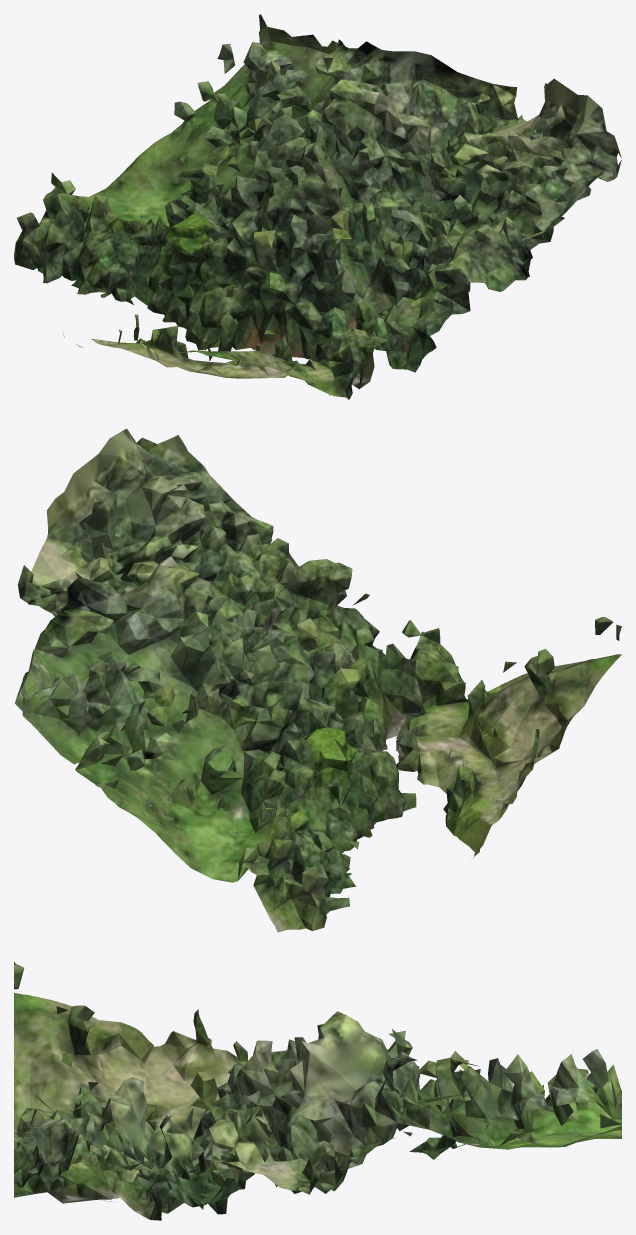
3 views of the same model, one above another, from view 1: azimuth 30°, elevation 25°; view 2: azimuth 150°, elevation 25°; view 3: azimuth 270°, elevation 25° (orthographic). The views are drawn at different scales.
Bounding box in the file's own units: 209 × 99.37 × 209.
5 materials, 5 textured.
